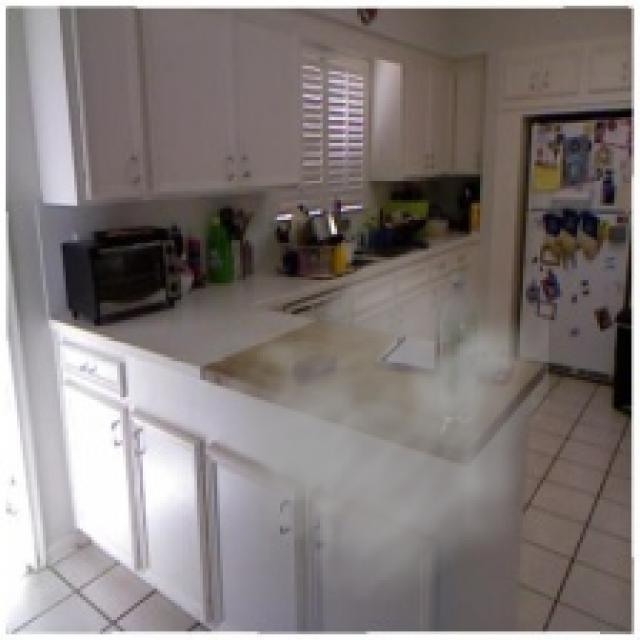Smoke: (177, 237, 549, 614)
